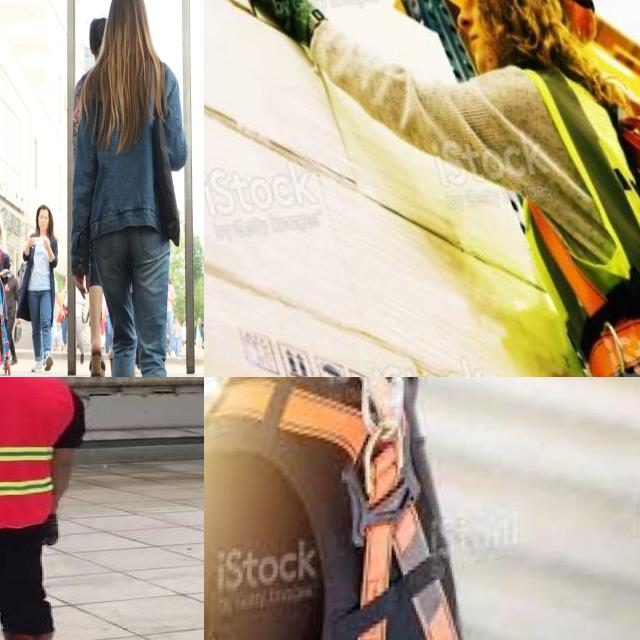Harness: (204, 377, 460, 640), (532, 208, 640, 377)
person: (0, 377, 86, 640)
